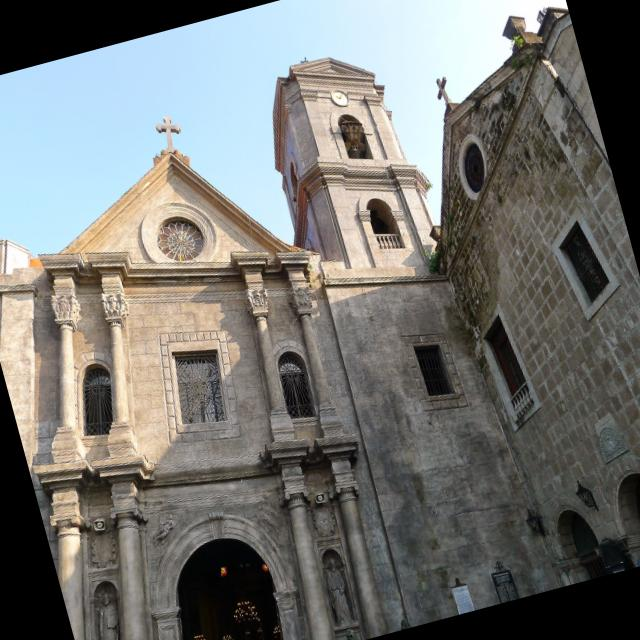San Agustin Church: (0, 56, 559, 640)
